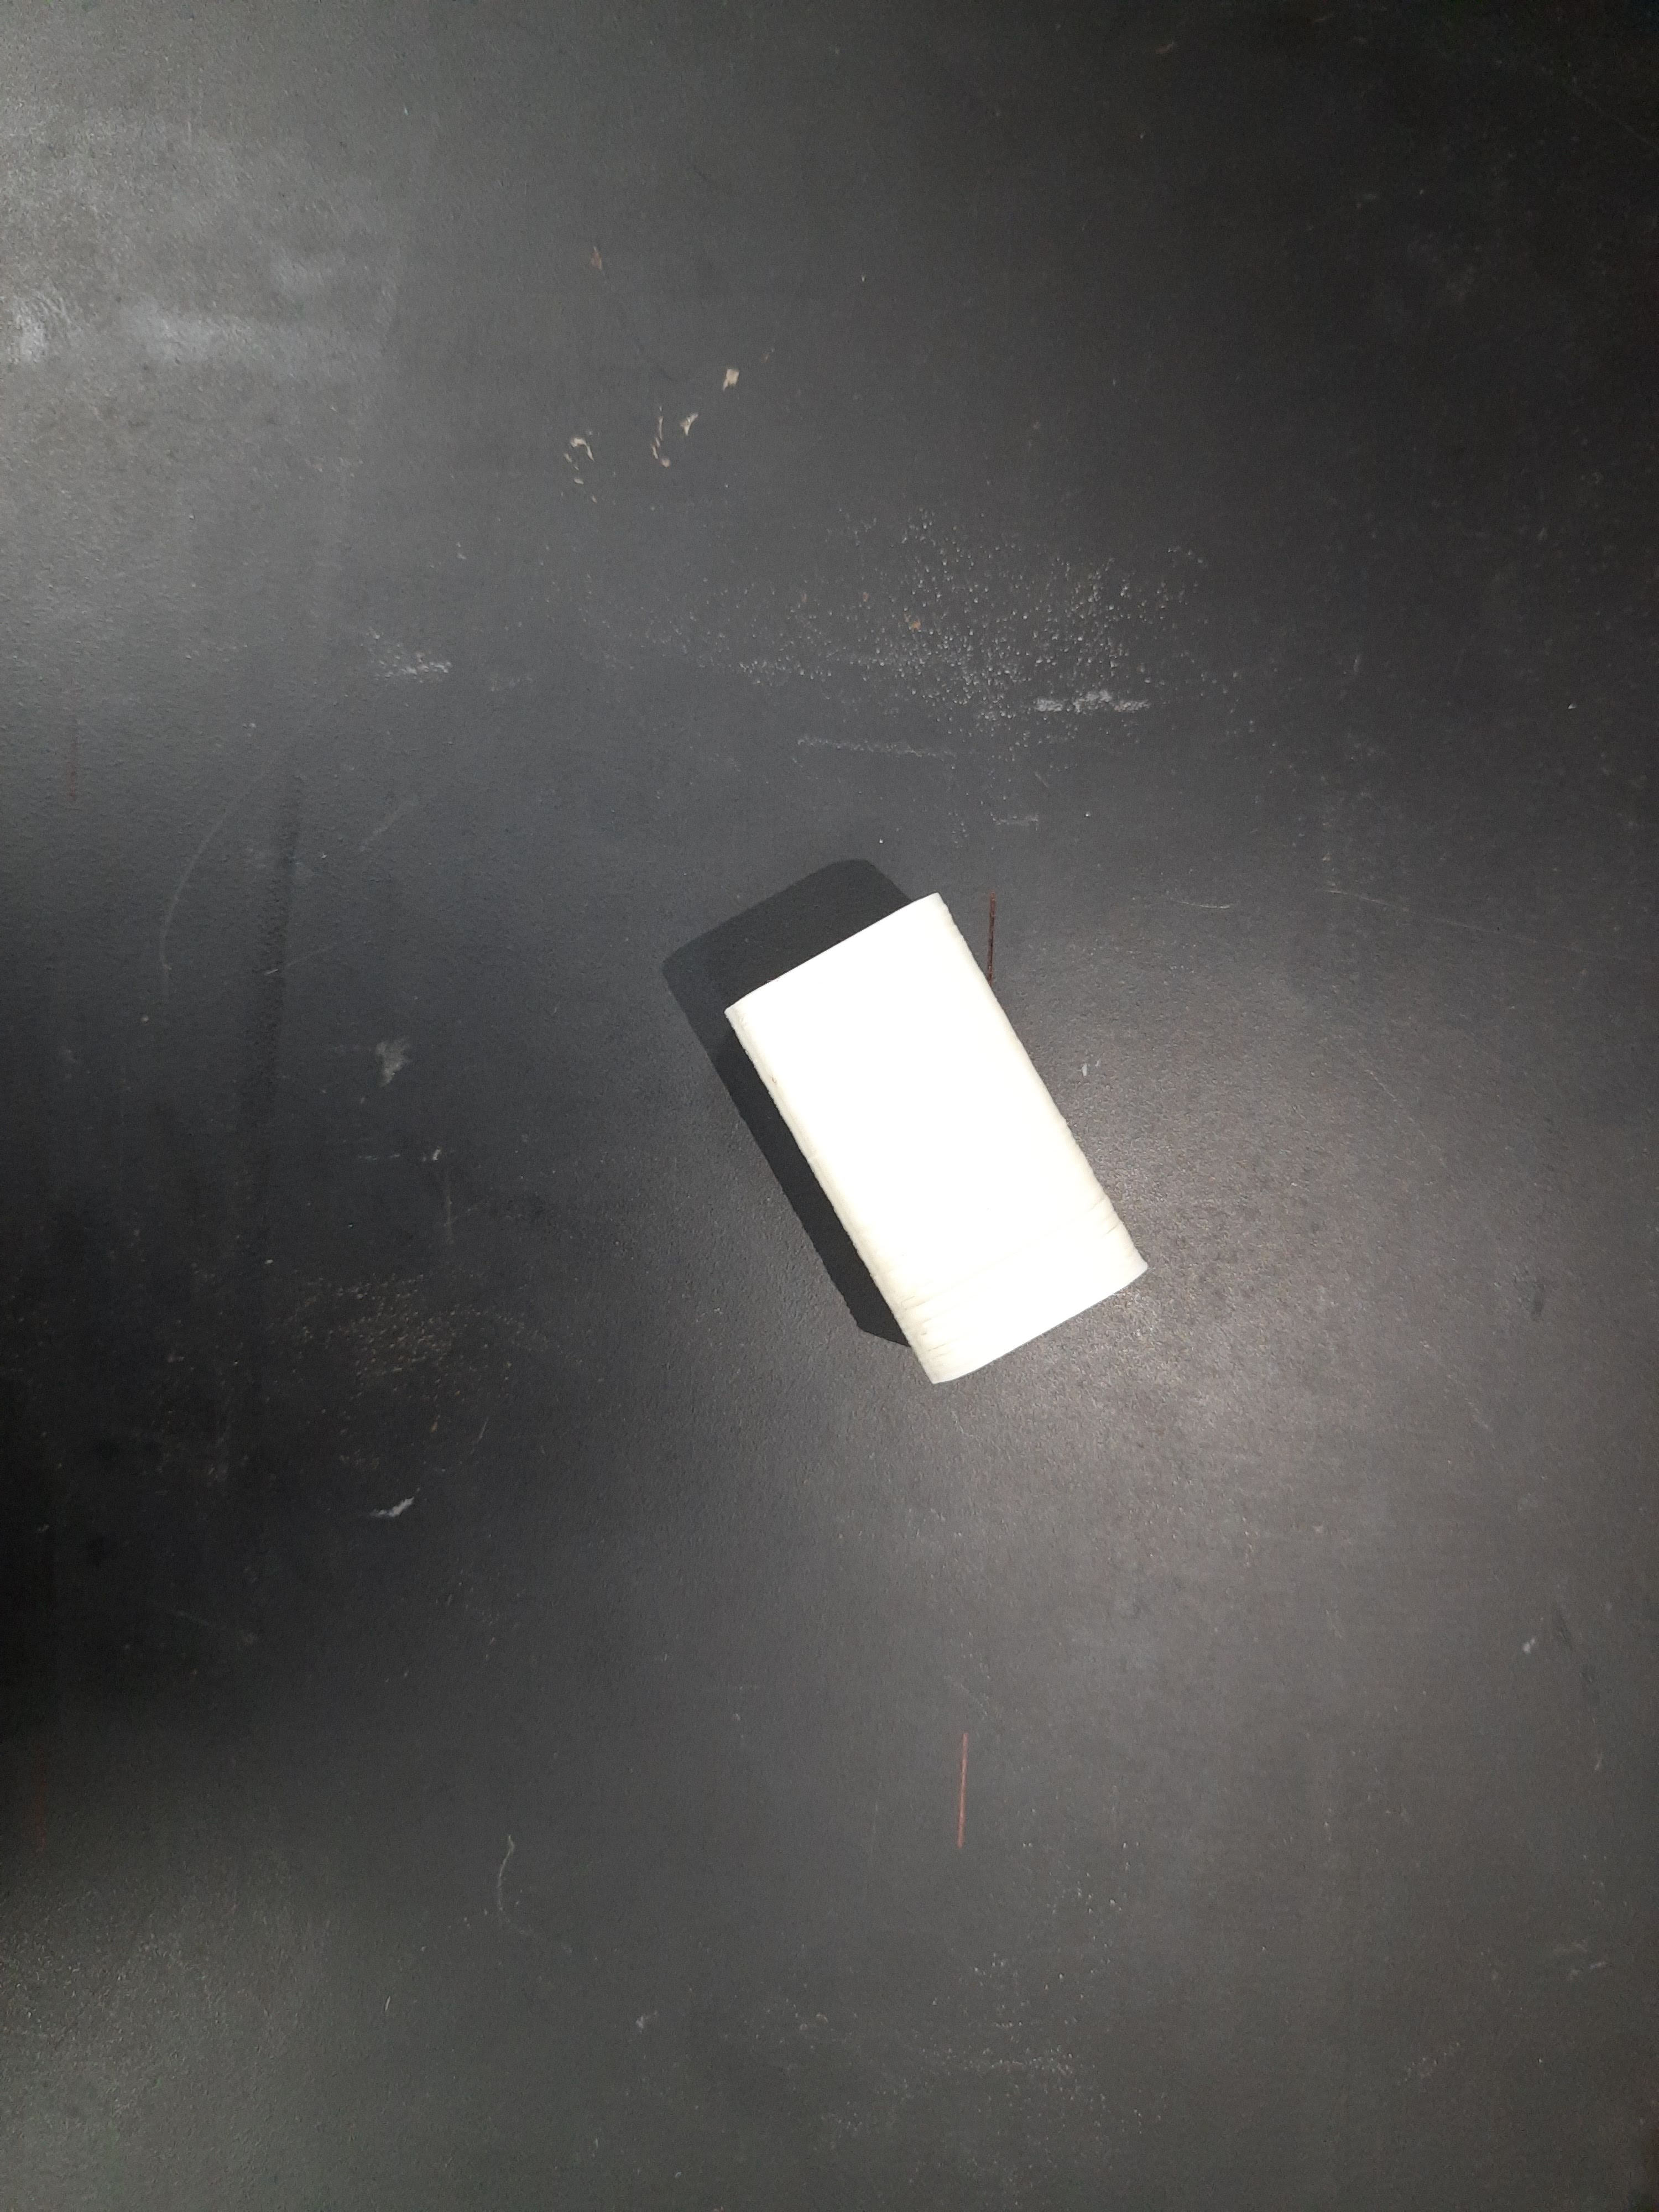CUBE: (721, 885, 1150, 1390)
